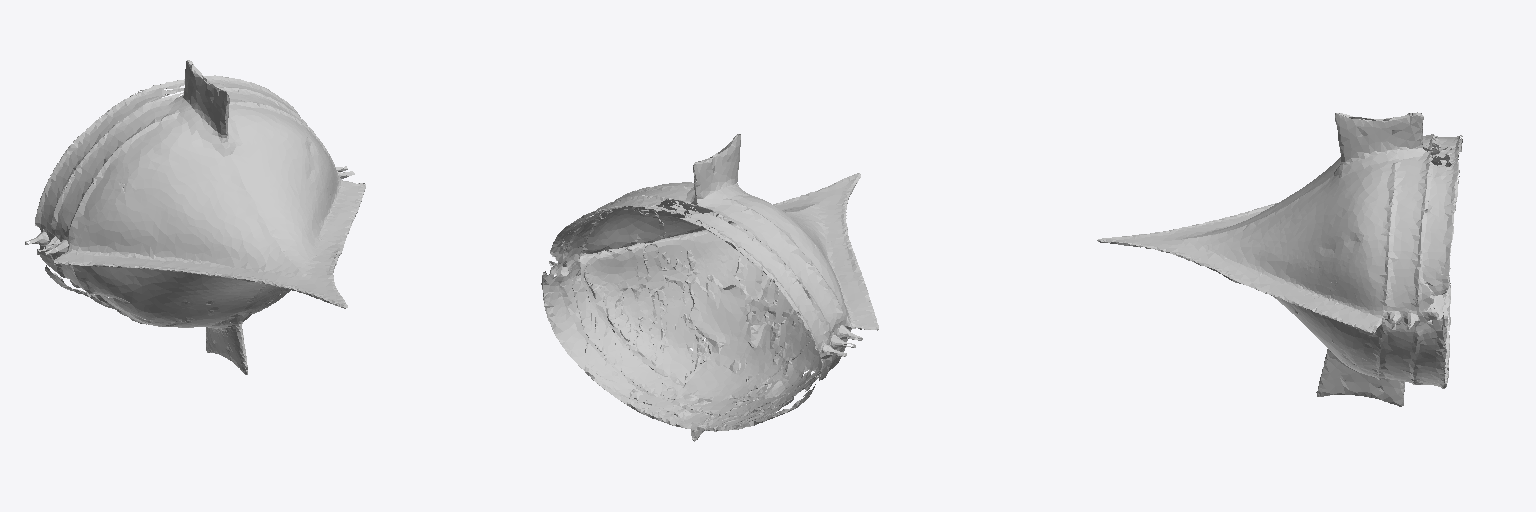
File: exterieur_decimate.obj
3 renders of one model, left to right at view 1: azimuth 30°, elevation 25°; view 2: azimuth 150°, elevation 25°; view 3: azimuth 270°, elevation 25°, orthographic.
Visible parts, largest first — view 1: exterieur_decimate; view 2: exterieur_decimate; view 3: exterieur_decimate.
Part boxes in pixels (left/top/right/bottom): exterieur_decimate: left=25, top=60, right=365, bottom=374; exterieur_decimate: left=541, top=134, right=878, bottom=441; exterieur_decimate: left=1097, top=112, right=1462, bottom=406.
Size of the model in its own units: 0.263 by 0.2319 by 0.2673.